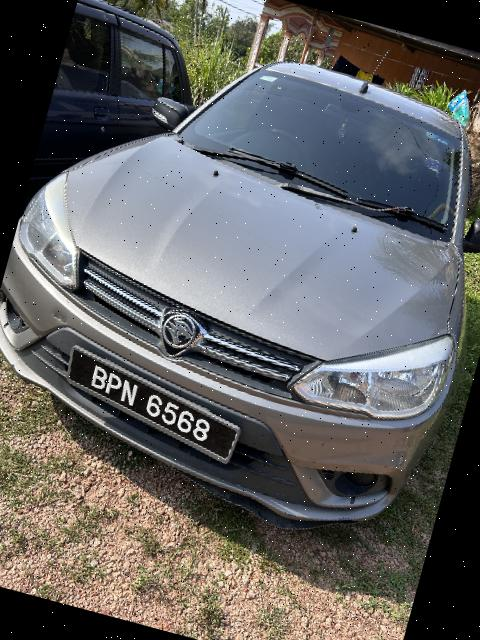License_Plate: (49, 343, 251, 473)
car: (1, 1, 480, 566)
